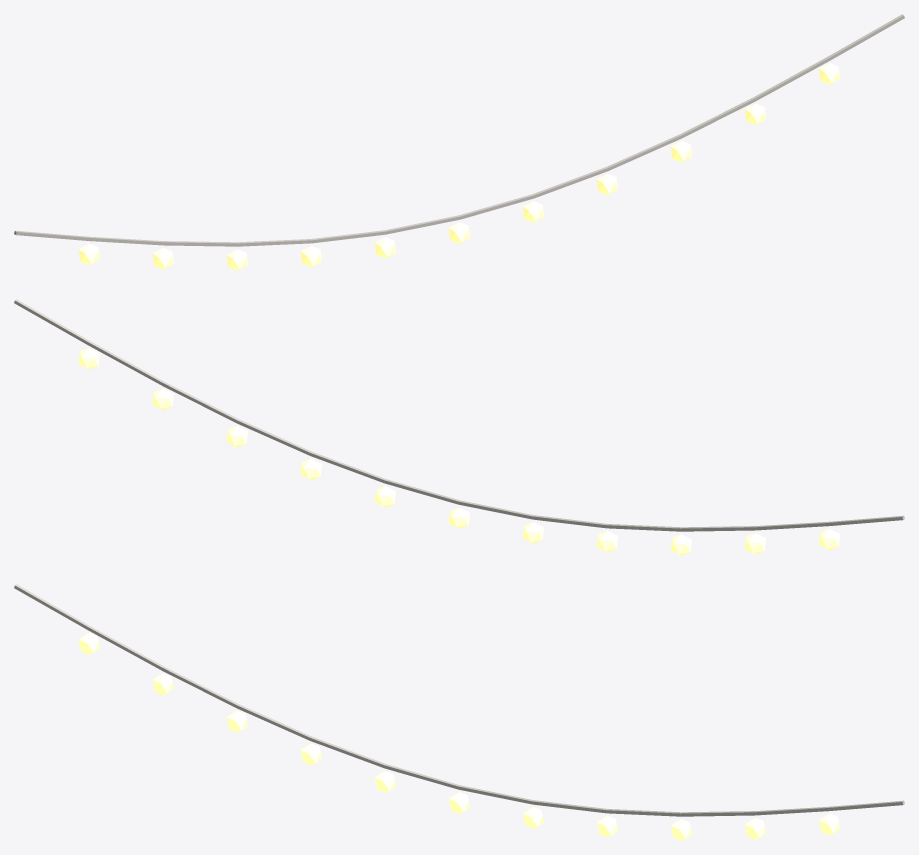
File: SM_VK_Prop_Festoon.glb
3 renders of one model, top to bottom at view 1: azimuth 30°, elevation 25°; view 2: azimuth 150°, elevation 25°; view 3: azimuth 330°, elevation 25°, orthographic.
Visible parts, largest first — view 1: SM_VK_Prop_Festoon; view 2: SM_VK_Prop_Festoon; view 3: SM_VK_Prop_Festoon.
Boxes of the visible parts, <box> form: SM_VK_Prop_Festoon: <box>14,14,904,270</box>; SM_VK_Prop_Festoon: <box>14,299,904,555</box>; SM_VK_Prop_Festoon: <box>14,584,904,840</box>.
Bounding box in the file's own units: 6.01 × 0.7796 × 0.1191.
